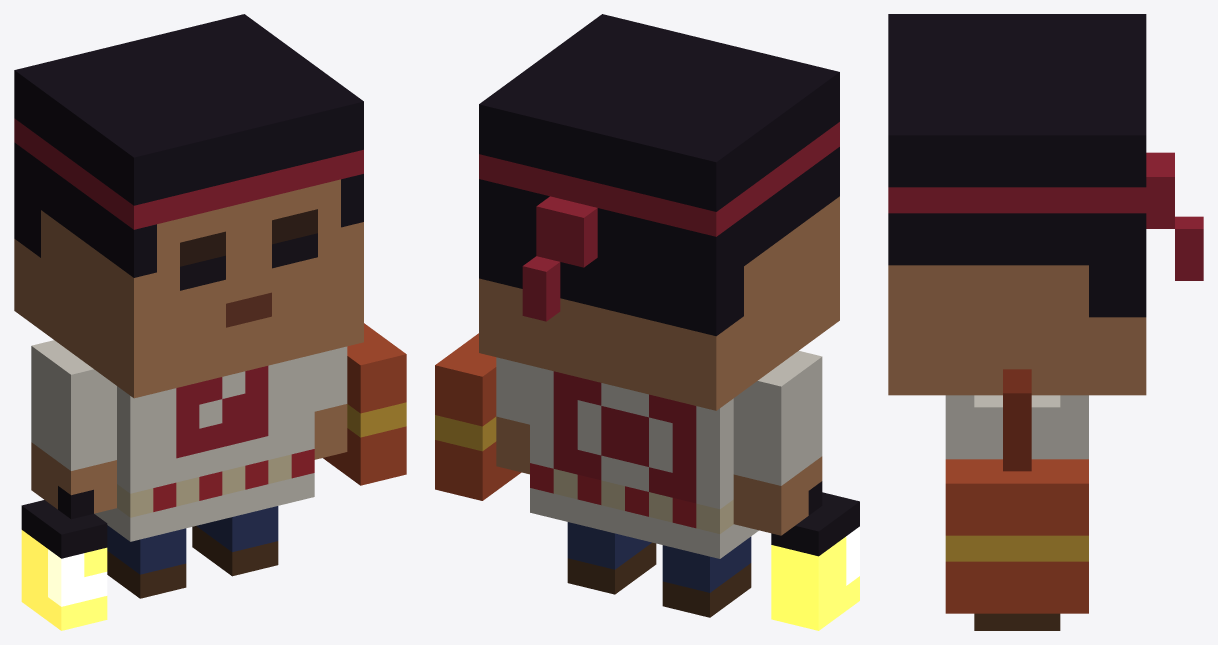
The model's file is exorcist.glb.
3 renders of one model, left to right at view 1: azimuth 30°, elevation 25°; view 2: azimuth 150°, elevation 25°; view 3: azimuth 270°, elevation 25°, orthographic. The views are drawn at different scales.
Parts seen in each view (by area): view 1: Head, Body, ArmR, LegR, LegL, ArmL; view 2: Head, Body, ArmR, LegR, LegL, ArmL; view 3: Head, Body, ArmL, LegL.
Part boxes in pixels (left/top/right/bottom): Head: left=14, top=14, right=363, bottom=398; Body: left=94, top=323, right=406, bottom=541; ArmR: left=21, top=340, right=116, bottom=630; LegR: left=107, top=525, right=186, bottom=598; LegL: left=192, top=506, right=278, bottom=576; ArmL: left=314, top=346, right=347, bottom=459; Head: left=479, top=14, right=839, bottom=410; Body: left=435, top=333, right=758, bottom=558; ArmR: left=733, top=351, right=859, bottom=630; LegR: left=662, top=536, right=751, bottom=617; LegL: left=567, top=522, right=656, bottom=594; ArmL: left=496, top=357, right=529, bottom=474; Head: left=888, top=14, right=1203, bottom=395; Body: left=945, top=369, right=1088, bottom=613; ArmL: left=974, top=395, right=1060, bottom=459; LegL: left=974, top=613, right=1060, bottom=630.
Size of the model in its own units: 1.5 by 2 by 1.1.
